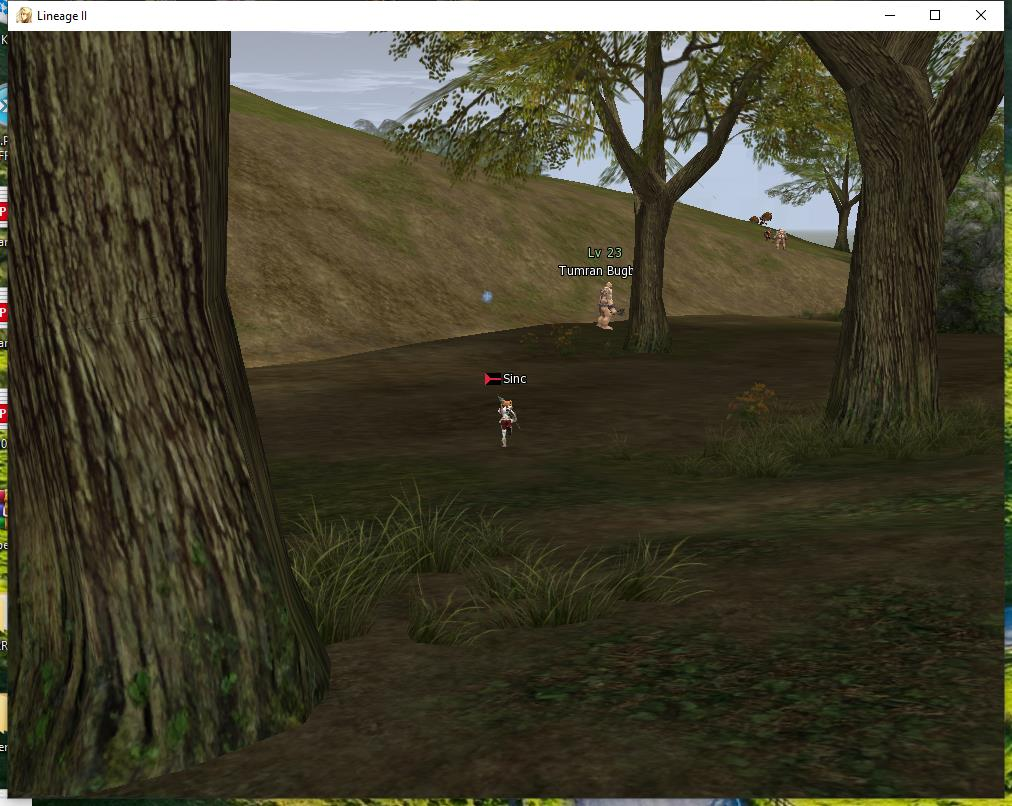monster: (551, 235, 634, 330), (772, 225, 794, 259), (747, 212, 760, 224), (762, 206, 771, 220)
